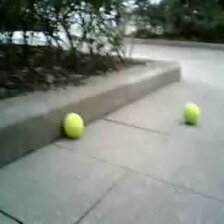tennis: (62, 113, 82, 137), (183, 102, 199, 123)
